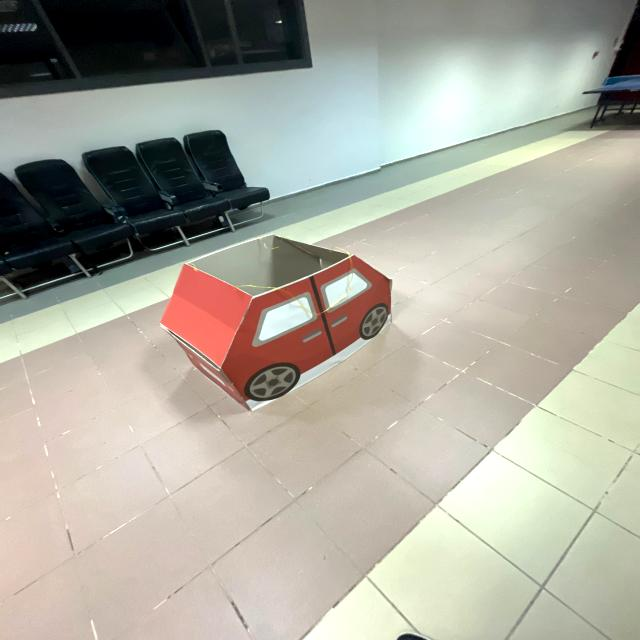red_car: (143, 230, 429, 419)
